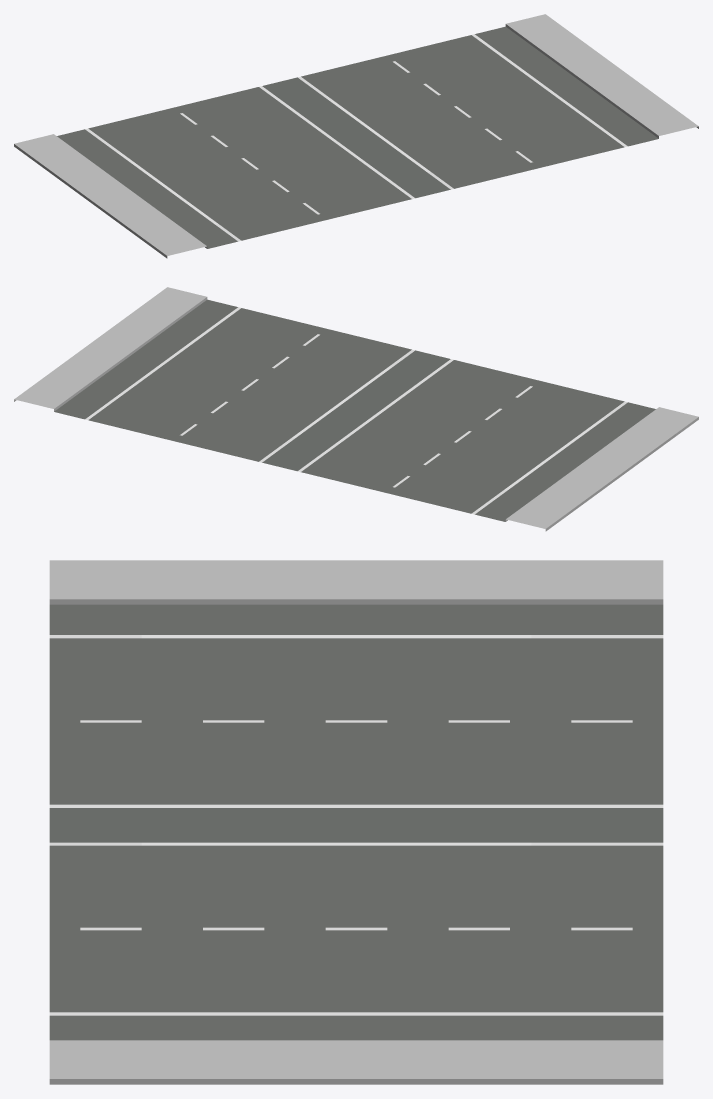
File: Double_Straight.fbx
3 renders of one model, top to bottom at view 1: azimuth 30°, elevation 25°; view 2: azimuth 150°, elevation 25°; view 3: azimuth 270°, elevation 25°, orthographic. The views are drawn at different scales.
Visible parts, largest first — view 1: Plane; view 2: Plane; view 3: Plane.
Part boxes in pixels (x1,y1,x2,y2): Plane: [14, 14, 698, 258]; Plane: [14, 287, 698, 531]; Plane: [49, 560, 663, 1084].
Size of the model in its own units: 30 by 0.15 by 15.
